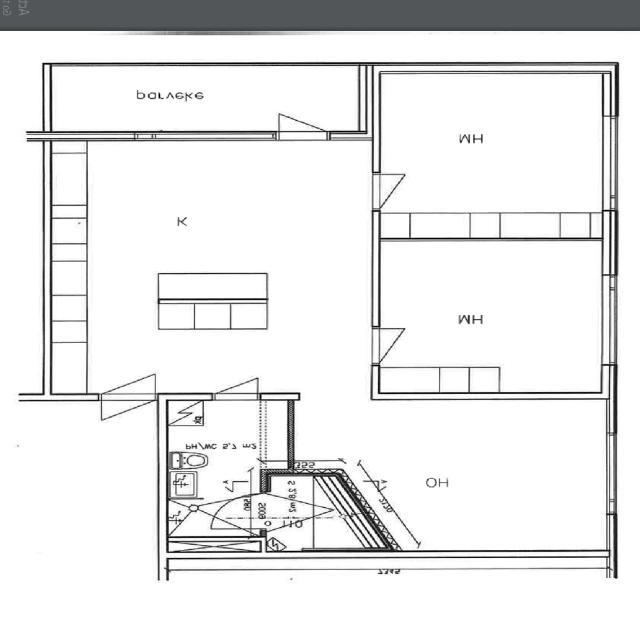door: (101, 393, 156, 439), (101, 355, 156, 400), (278, 96, 328, 141), (372, 328, 430, 363), (372, 175, 430, 209), (210, 494, 267, 528), (215, 363, 259, 400)
